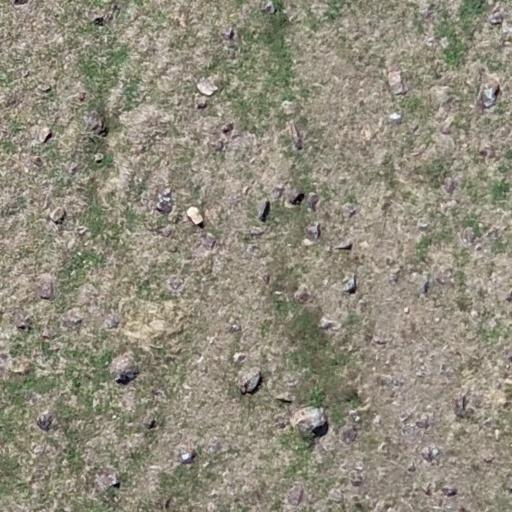stone: (290, 405, 329, 441), (476, 76, 502, 111), (386, 70, 412, 102), (83, 110, 108, 137), (238, 369, 262, 395), (94, 469, 120, 493), (60, 309, 85, 331), (36, 273, 57, 299), (155, 188, 175, 214), (288, 120, 304, 152), (284, 484, 306, 506), (13, 308, 32, 332), (382, 373, 406, 391), (186, 206, 206, 227), (36, 410, 55, 432), (340, 425, 360, 445), (197, 232, 217, 252), (420, 444, 440, 464), (197, 78, 219, 96), (175, 446, 197, 464), (286, 188, 306, 207), (453, 395, 469, 418), (317, 316, 340, 332), (304, 222, 322, 242), (166, 275, 186, 293), (210, 254, 226, 276), (49, 206, 67, 225), (293, 285, 311, 304), (41, 323, 60, 341), (371, 438, 391, 455), (205, 437, 223, 455), (243, 242, 262, 259), (390, 107, 404, 129), (103, 313, 121, 330), (326, 487, 344, 504), (460, 227, 476, 246), (442, 176, 458, 195), (342, 274, 357, 294), (243, 226, 268, 238), (306, 192, 320, 213), (341, 202, 357, 220), (348, 469, 364, 487), (414, 414, 432, 430), (440, 117, 456, 135), (488, 8, 504, 26), (155, 224, 175, 238), (38, 126, 53, 144), (282, 374, 300, 389), (220, 26, 236, 42), (260, 0, 276, 15), (142, 416, 157, 430), (32, 442, 48, 455), (371, 336, 391, 346), (421, 482, 435, 496), (167, 211, 181, 225), (232, 352, 248, 364), (389, 267, 401, 283), (373, 499, 389, 511), (368, 415, 384, 427), (212, 139, 226, 152), (334, 240, 352, 250), (91, 14, 106, 26), (151, 388, 166, 400), (442, 486, 458, 497), (227, 321, 241, 333), (36, 84, 52, 94), (68, 163, 80, 176), (196, 97, 208, 110), (221, 122, 234, 134), (424, 36, 436, 48), (32, 156, 44, 168), (261, 272, 271, 286), (77, 90, 87, 102), (417, 220, 429, 230), (483, 454, 495, 464), (407, 461, 417, 473), (94, 152, 104, 164), (163, 498, 173, 510), (479, 148, 489, 158), (494, 429, 500, 439)
